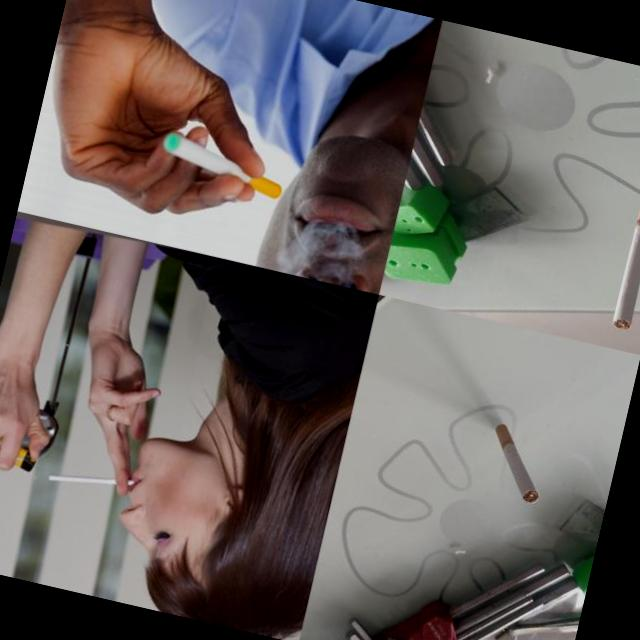cigarette: (154, 128, 290, 200), (479, 422, 552, 506), (44, 461, 144, 506), (610, 180, 640, 330)
